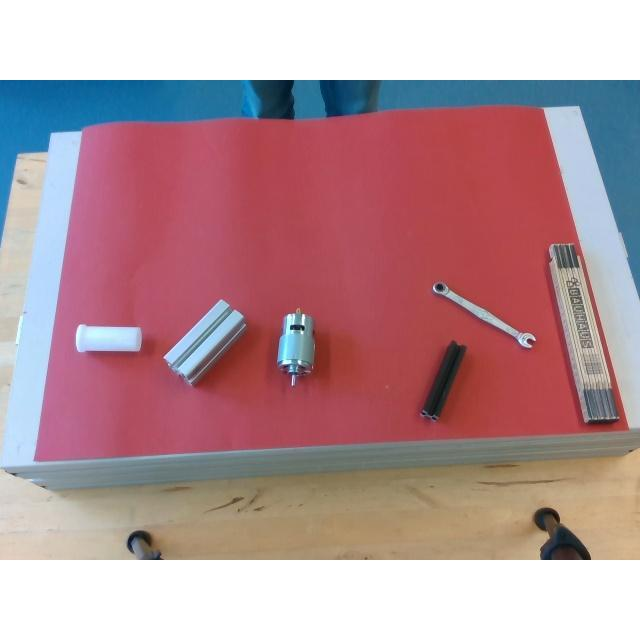F20_20_B: (423, 340, 465, 416)
Motor2: (278, 310, 314, 382)
S40_40_G: (163, 301, 245, 385)
Spacer: (74, 324, 142, 352)
Wrench: (431, 282, 535, 346)
